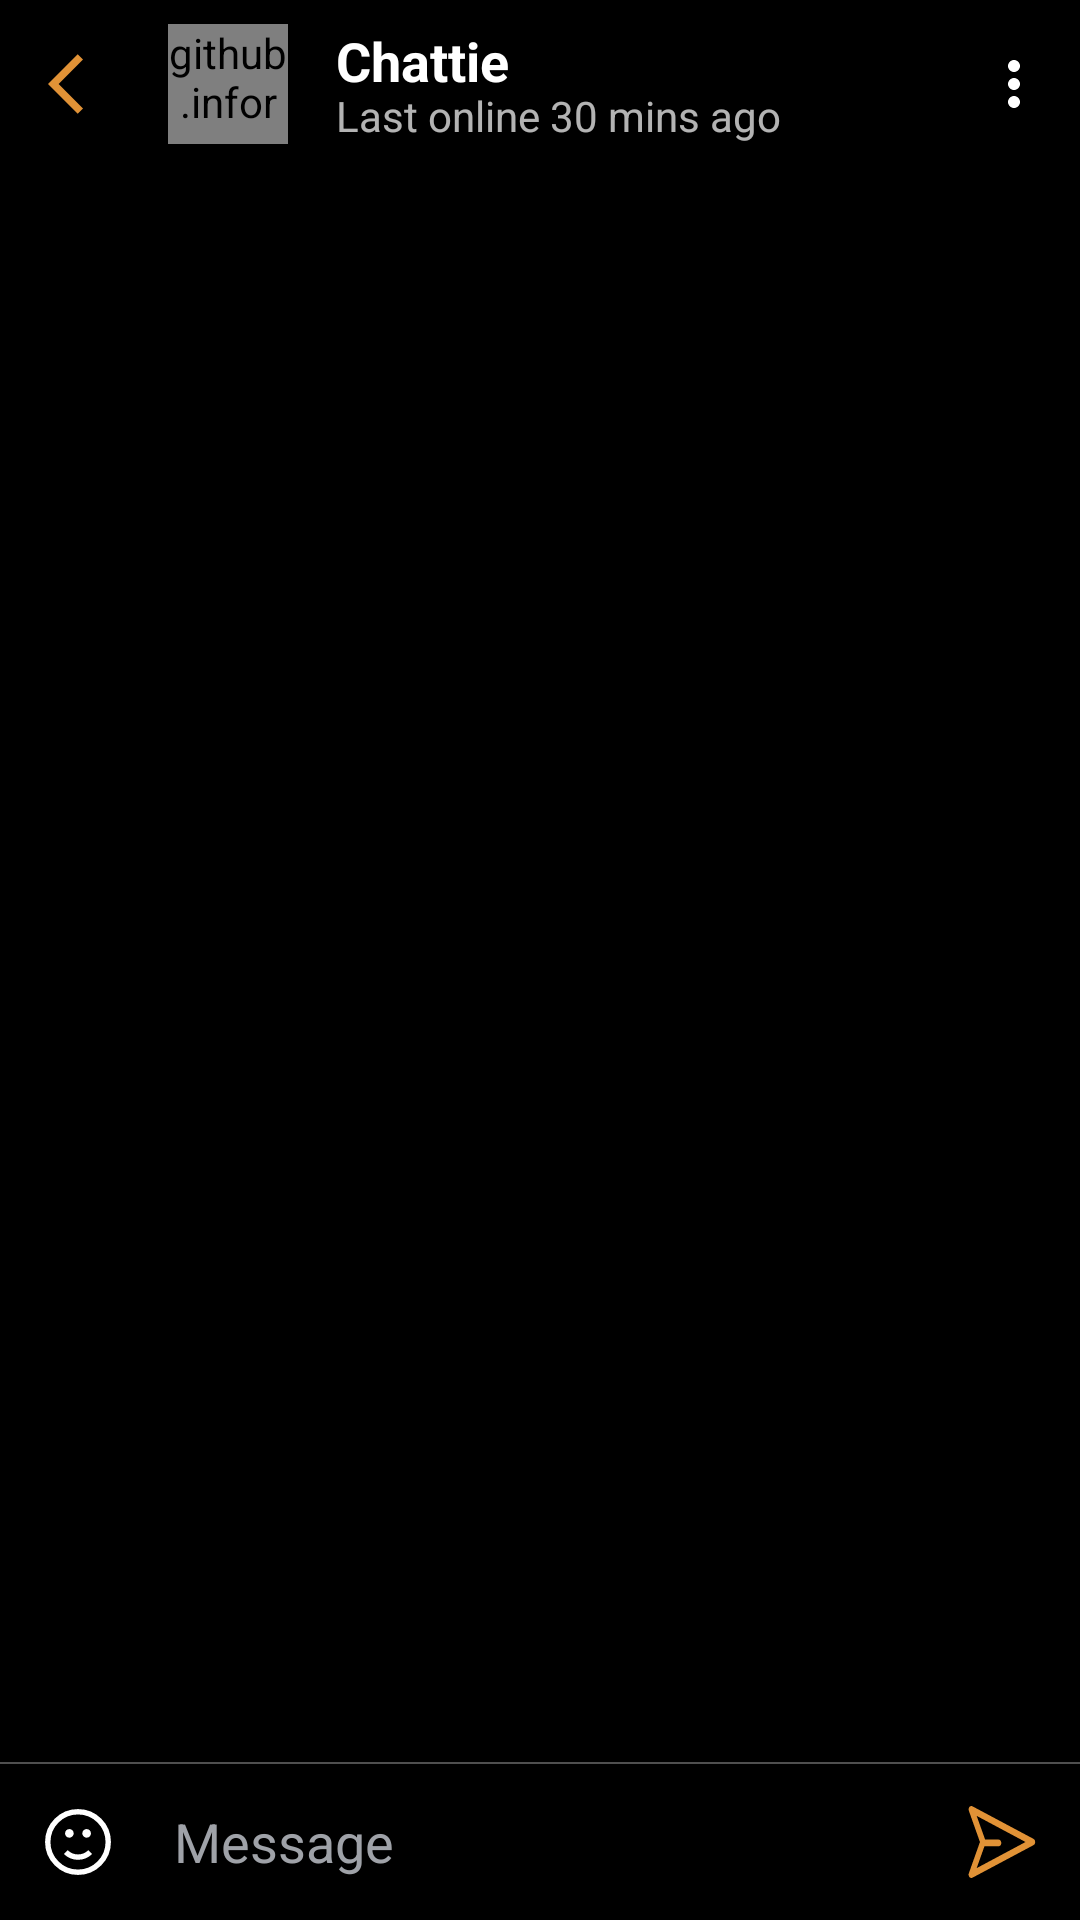

Named icons in this screenshot (1080x1920) and their bounding boxes, (x1, y1, x2, y2):
reaction: (45, 1809, 111, 1875)
send: (968, 1806, 1036, 1878)
